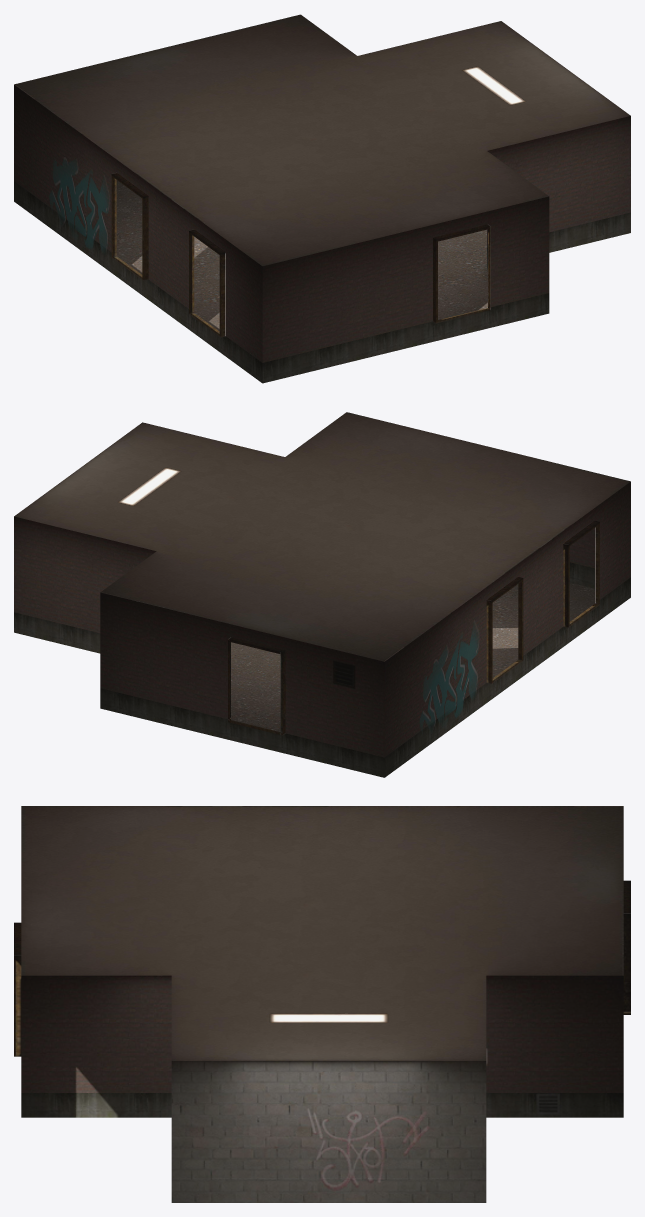
File: abandoned_brick_room.glb
The picture shows the model from 3 angles, top to bottom: view 1: azimuth 30°, elevation 25°; view 2: azimuth 150°, elevation 25°; view 3: azimuth 270°, elevation 25°; orthographic projection. The views are drawn at different scales.
Visible parts, largest first — view 1: Object_2; view 2: Object_2; view 3: Object_2.
Part boxes in pixels (x1,y1,x2,y2): Object_2: (14, 14, 630, 383); Object_2: (14, 412, 630, 777); Object_2: (14, 806, 630, 1202).
Size of the model in its own units: 10.75 by 2.76 by 10.88.
Materials: 1 (1 with a texture image).
